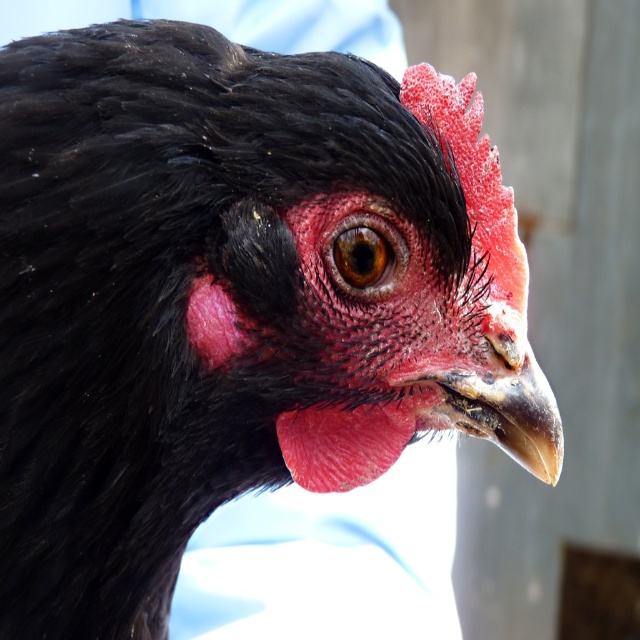Chicken: (18, 4, 561, 635)
